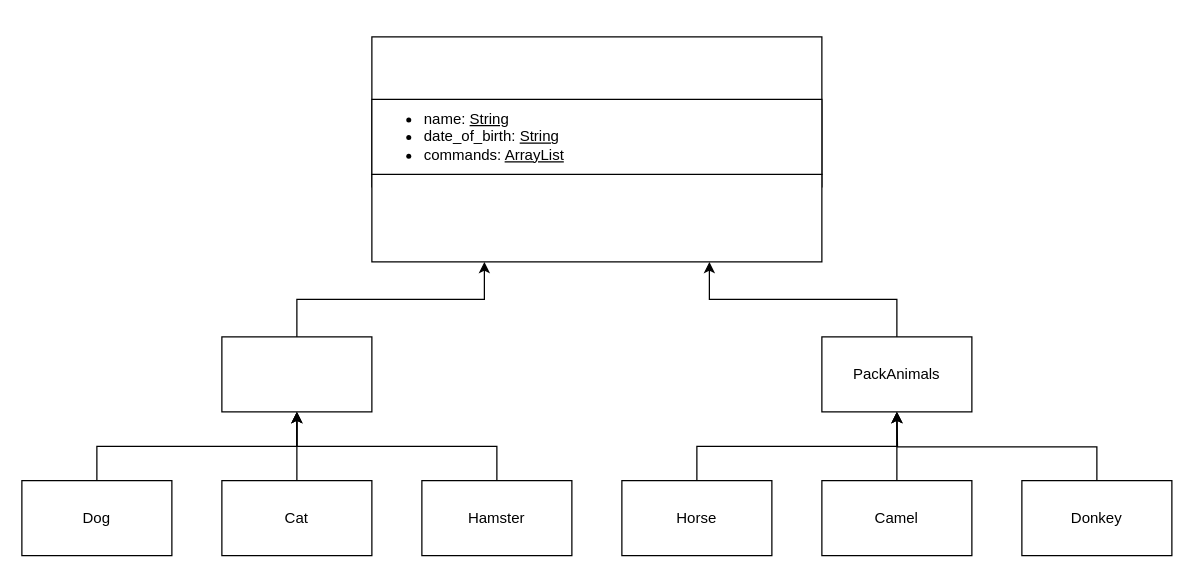
Some shapes in this 1194 by 578 pixel diagram are drawn without their labels. Here are the shapes that lost their labels. From the top down, the box of each, then its label:
(371, 36, 822, 187): Animal
(371, 173, 822, 262): learn_command(command: String): Boolean get_commands(): String
(221, 336, 372, 412): Pets
